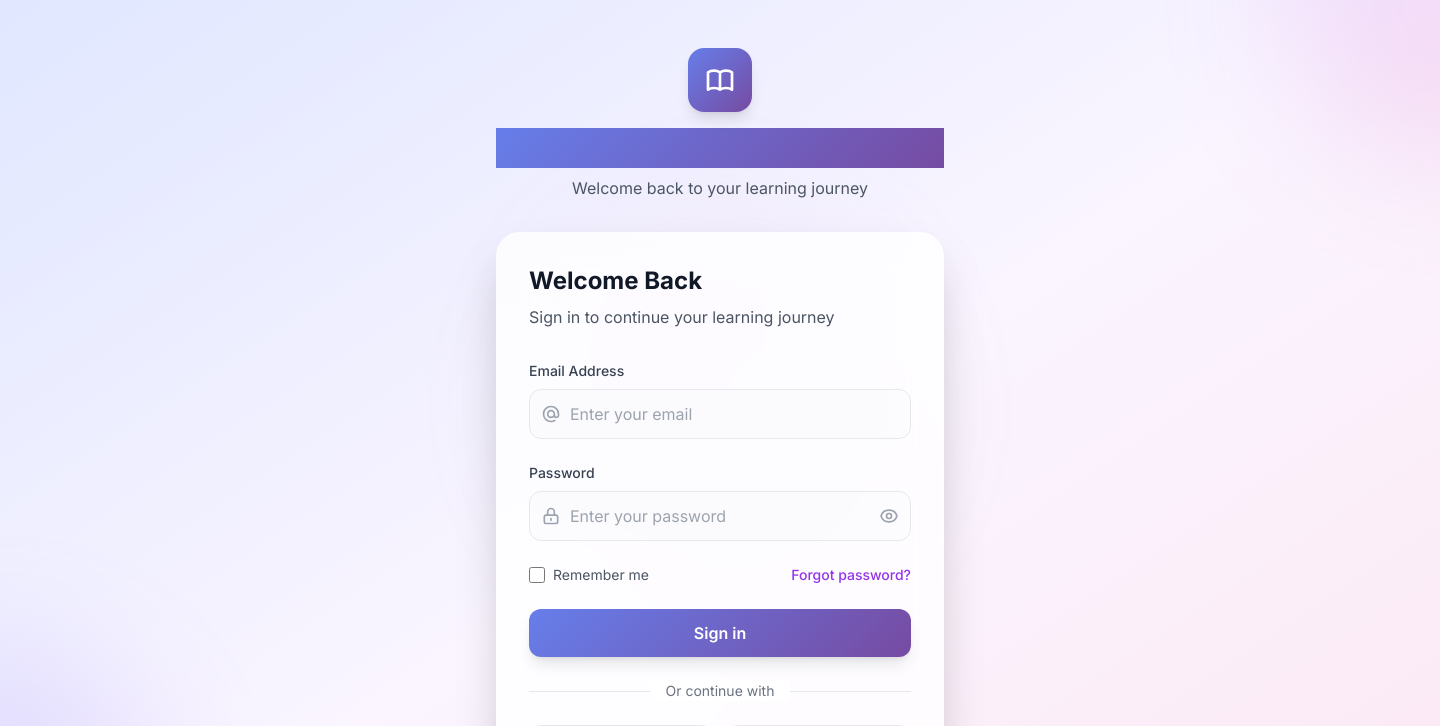
Test case: Login Component › validates password field correctly
This screenshot has width=1440, height=726.
Test empty password
Click the button "Sign in": (720, 633) [529, 609, 911, 657]
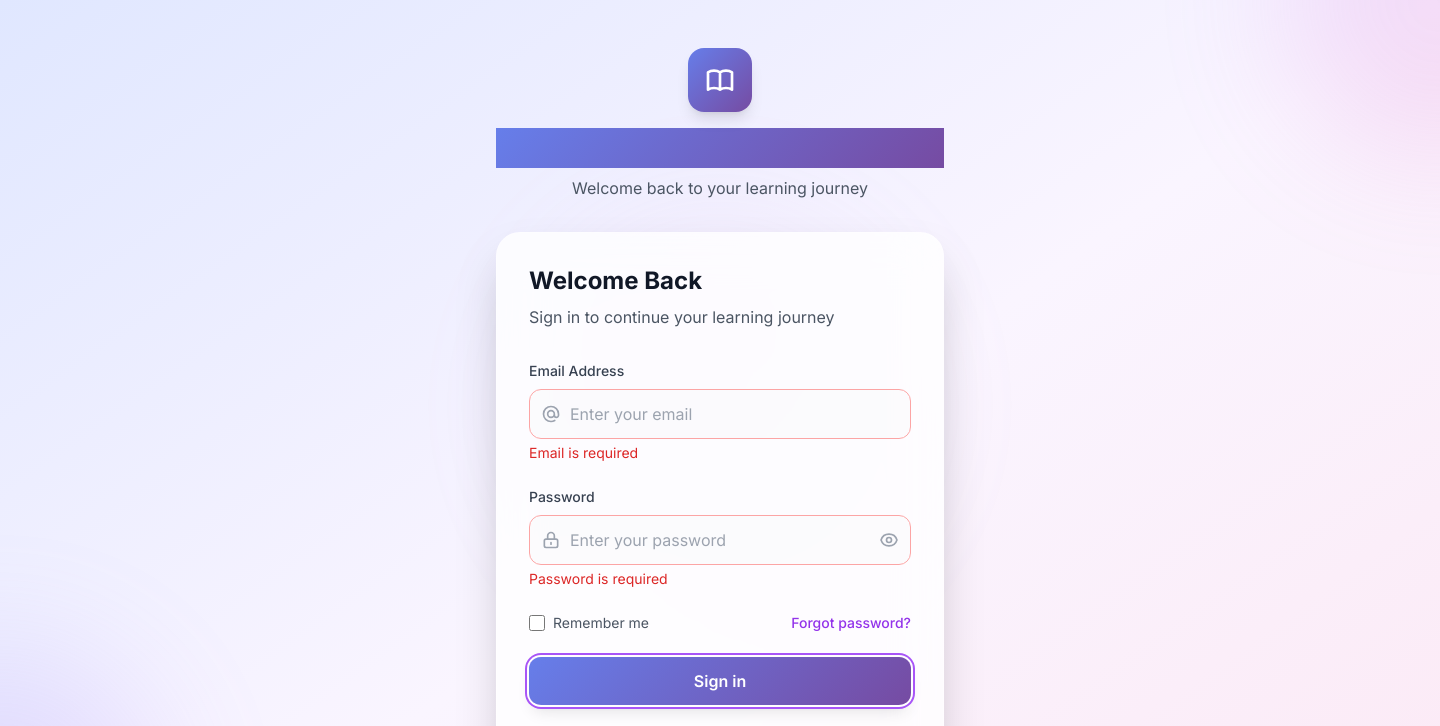
Now the text "Password is required" is shown, box [529, 570, 668, 587]
Test valid password
In the password field labelled "Password": (720, 540) [529, 515, 911, 565], type "password123"
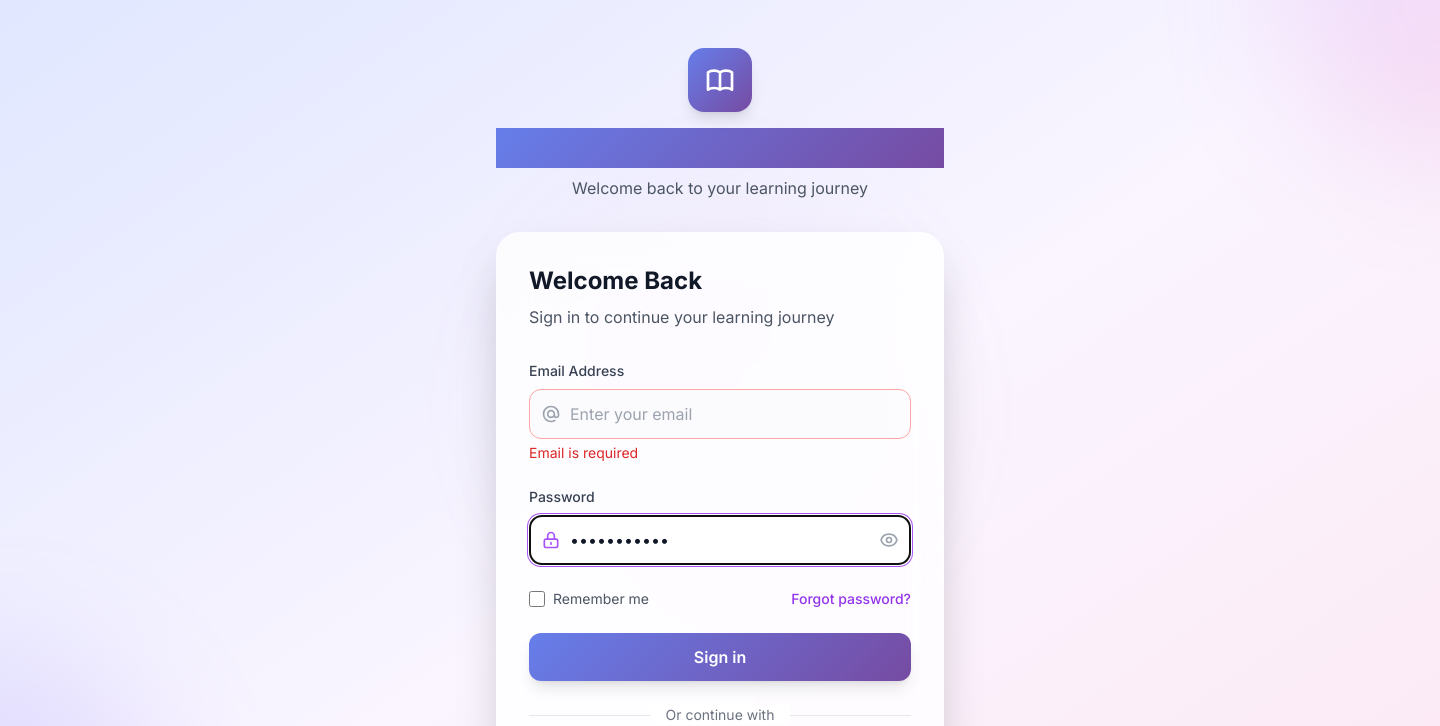
Now the text "Password is required" is gone
